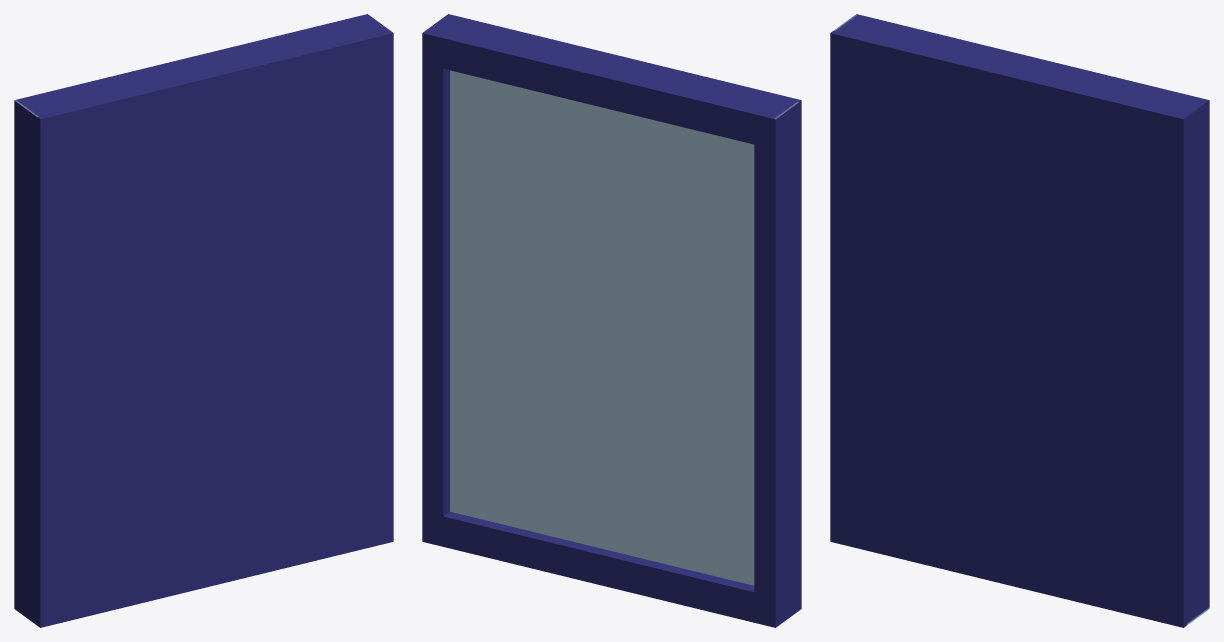
The model's file is Espejo.obj.
3 renders of one model, left to right at view 1: azimuth 30°, elevation 25°; view 2: azimuth 150°, elevation 25°; view 3: azimuth 330°, elevation 25°, orthographic.
Visible parts, largest first — view 1: Cube.007_Cube.017; view 2: Cube.007_Cube.017; view 3: Cube.007_Cube.017.
Boxes of the visible parts, bbox=[...] form: Cube.007_Cube.017: bbox=[14, 14, 393, 627]; Cube.007_Cube.017: bbox=[422, 14, 801, 627]; Cube.007_Cube.017: bbox=[830, 14, 1209, 627].
Bounding box in the file's own units: 4.14 × 5.69 × 0.53.
1 material, 1 textured.
